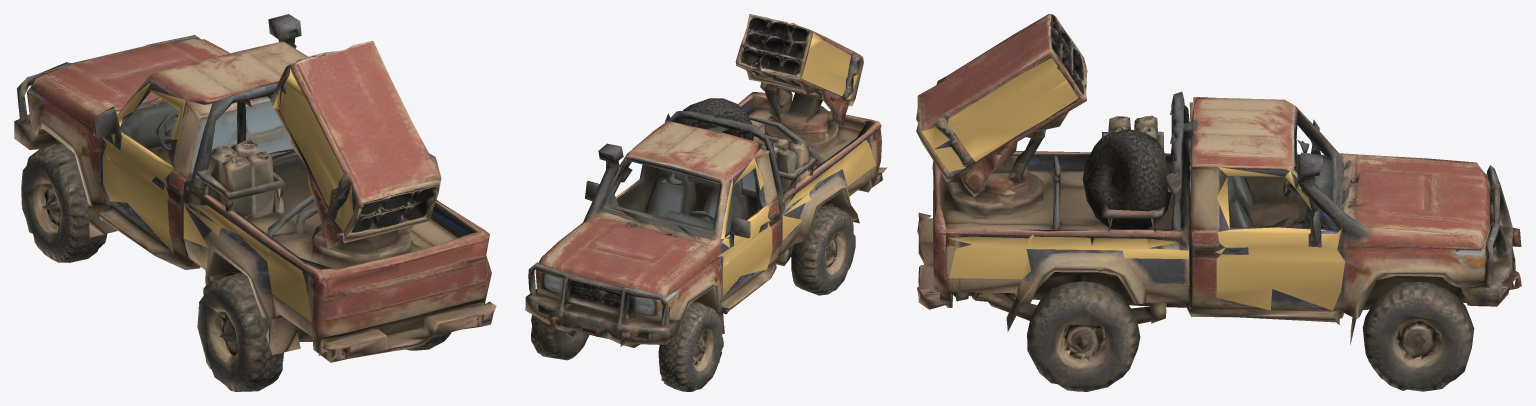
The model's file is rocket_technical.glb.
3 renders of one model, left to right at view 1: azimuth 30°, elevation 25°; view 2: azimuth 150°, elevation 25°; view 3: azimuth 270°, elevation 25°, orthographic. The views are drawn at different scales.
Visible parts, largest first — view 1: Model; view 2: Model; view 3: Model.
Part boxes in pixels (box(x1,y1,x2,y2)): Model: box(14, 14, 496, 391); Model: box(525, 14, 887, 391); Model: box(916, 14, 1521, 391).
Size of the model in its own units: 0.7982 by 1.15 by 2.
2 materials, 1 textured.
